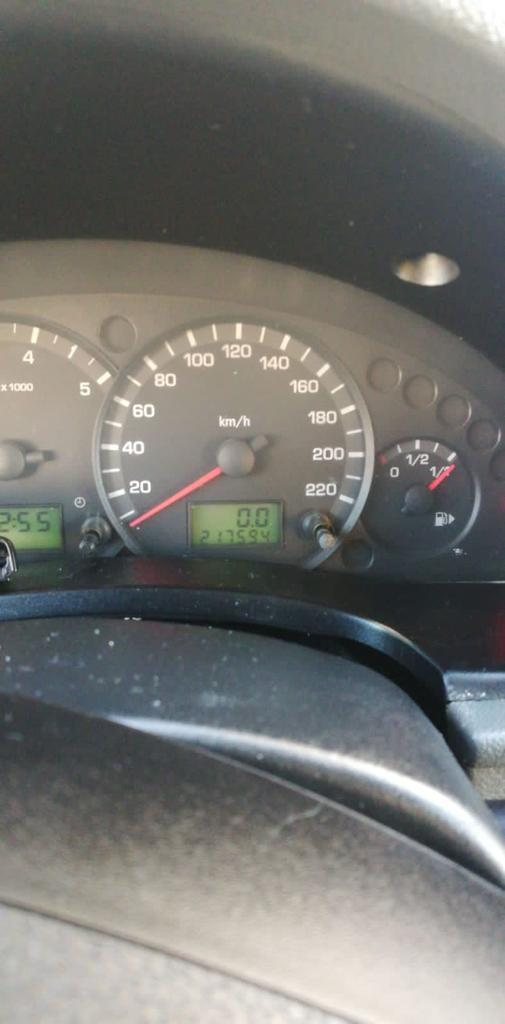,: (250, 523, 254, 527)
0: (255, 507, 268, 527), (237, 507, 249, 527)
1: (216, 529, 222, 544)
2: (199, 530, 209, 544)
4: (260, 529, 271, 542)
5: (236, 529, 245, 544)
7: (224, 529, 234, 544)
9: (248, 529, 257, 543)
odometer: (189, 501, 281, 547)
